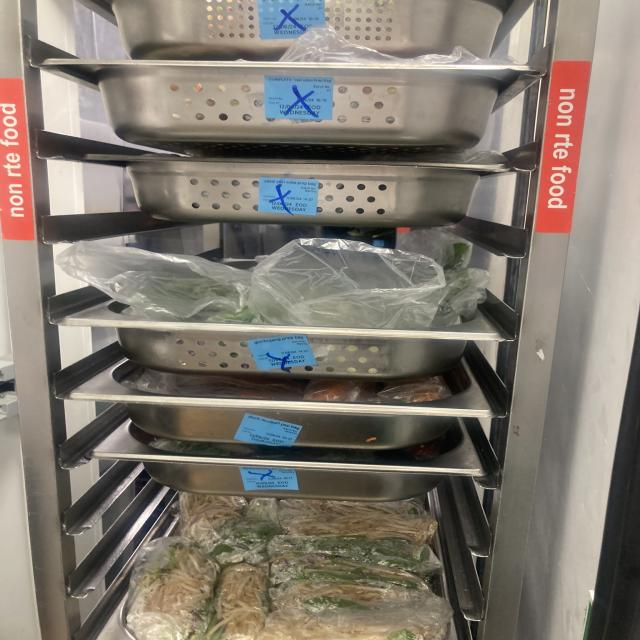product-labels: (262, 76, 335, 121), (258, 0, 330, 42), (247, 334, 319, 370), (259, 177, 323, 216), (234, 414, 302, 449), (238, 464, 301, 493)
